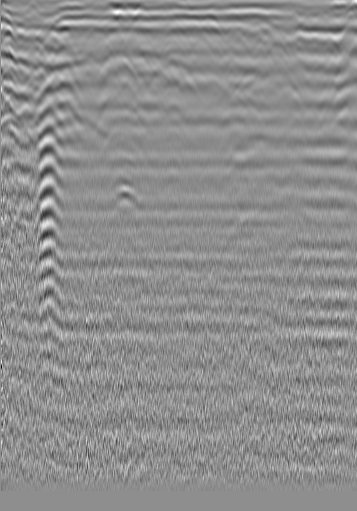가스: (104, 186, 146, 217)
상수: (22, 31, 42, 51)
오수: (289, 32, 309, 52)
우수: (165, 35, 185, 55)
